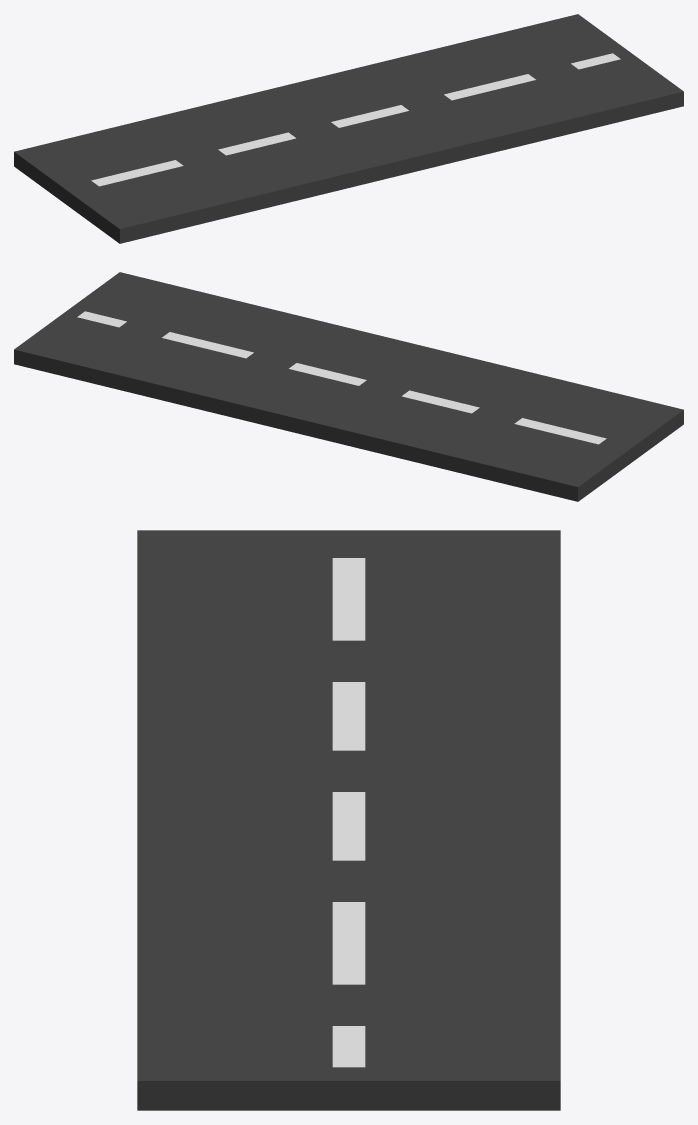
File: calle1_texture_embed.fbx
3 renders of one model, top to bottom at view 1: azimuth 30°, elevation 25°; view 2: azimuth 150°, elevation 25°; view 3: azimuth 270°, elevation 25°, orthographic. The views are drawn at different scales.
Parts seen in each view (by area): view 1: calle1; view 2: calle1; view 3: calle1.
Boxes of the visible parts, x1,y1,x2,y2 form: calle1: (14, 14, 683, 243); calle1: (14, 272, 683, 501); calle1: (137, 530, 560, 1110).
Bounding box in the file's own units: 400 × 10 × 130.
1 material, 1 textured.
